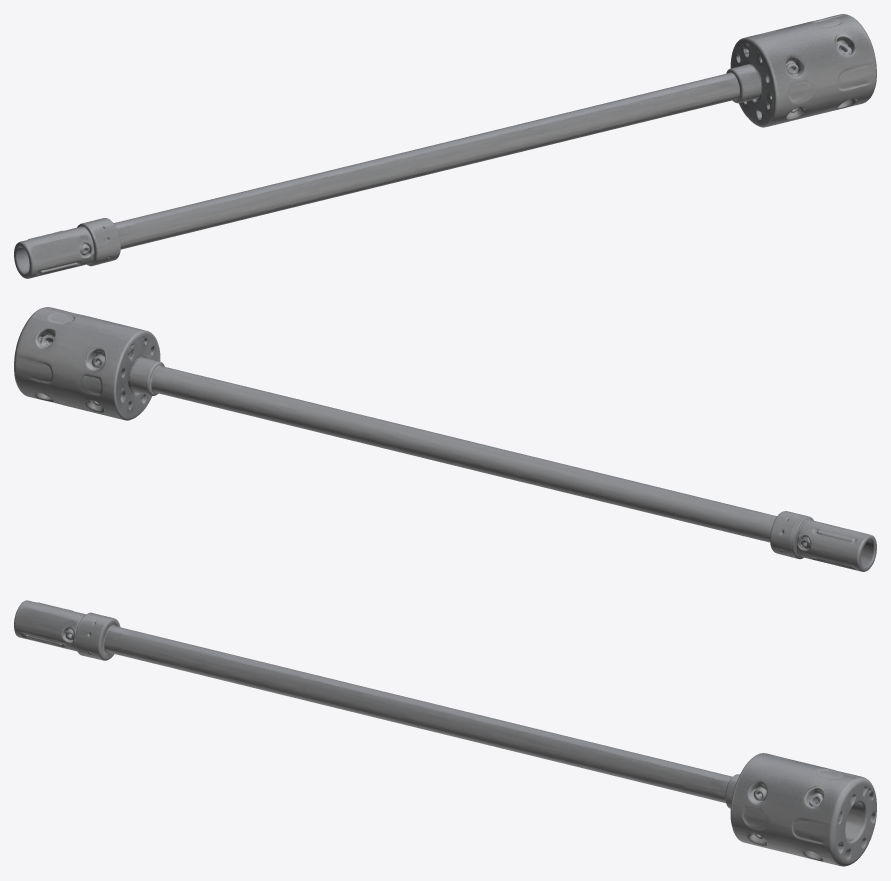
Rendered from Instrument_Shaft.fbx.
The picture shows the model from 3 angles, top to bottom: view 1: azimuth 30°, elevation 25°; view 2: azimuth 150°, elevation 25°; view 3: azimuth 330°, elevation 25°; orthographic projection.
Parts seen in each view (by area): view 1: Mesh_0; view 2: Mesh_0; view 3: Mesh_0.
Boxes of the visible parts, bbox=[...] form: Mesh_0: bbox=[14, 14, 876, 278]; Mesh_0: bbox=[14, 307, 876, 571]; Mesh_0: bbox=[14, 600, 876, 866].
Size of the model in its own units: 190 by 18.21 by 18.27.
1 material, 1 textured.
